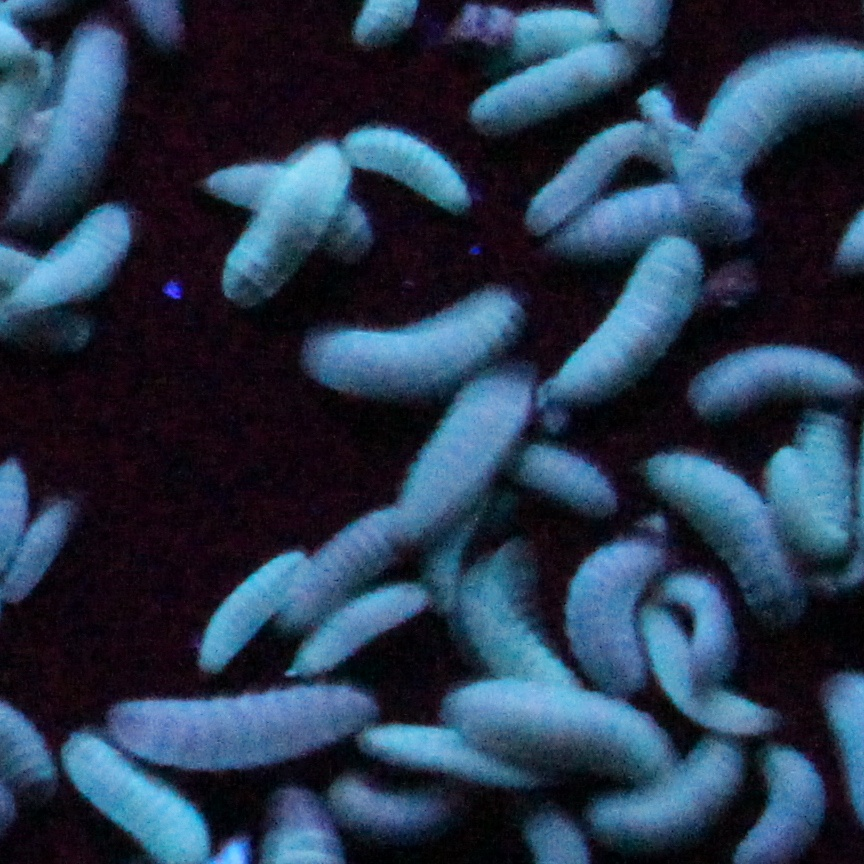larve: (309, 282, 525, 401), (646, 451, 800, 617), (559, 235, 714, 398), (453, 676, 680, 780), (218, 137, 353, 305), (407, 362, 537, 535), (112, 692, 387, 769), (564, 539, 680, 696), (21, 28, 114, 219), (632, 612, 773, 735), (457, 562, 589, 687), (0, 203, 137, 323), (573, 744, 753, 830), (184, 555, 316, 671), (766, 412, 857, 578), (275, 517, 412, 626), (198, 153, 362, 242), (462, 42, 625, 128), (296, 582, 432, 673), (532, 126, 641, 223), (364, 721, 521, 787), (348, 119, 468, 205), (664, 571, 743, 687), (523, 448, 641, 512), (557, 189, 691, 237), (507, 1, 609, 53)
